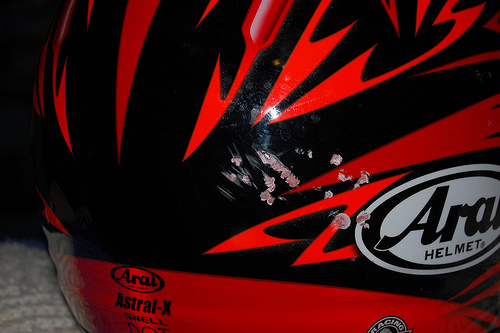helmet: (33, 3, 496, 333)
